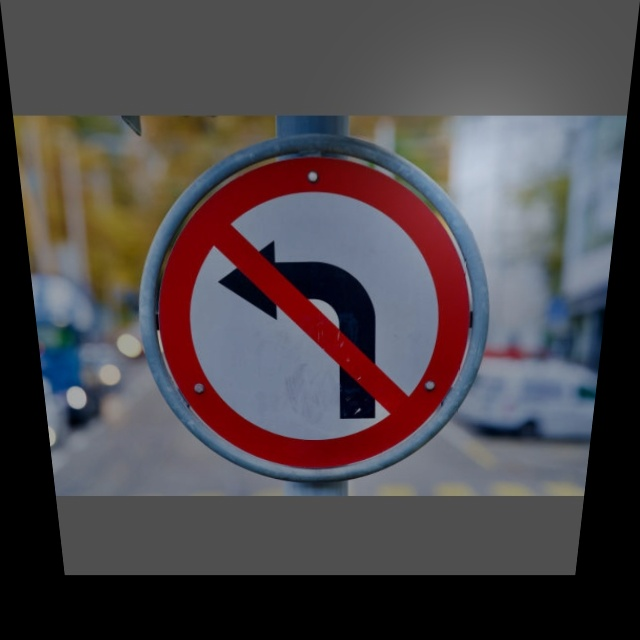Left_Turn_Prohibited: (128, 135, 500, 476)
